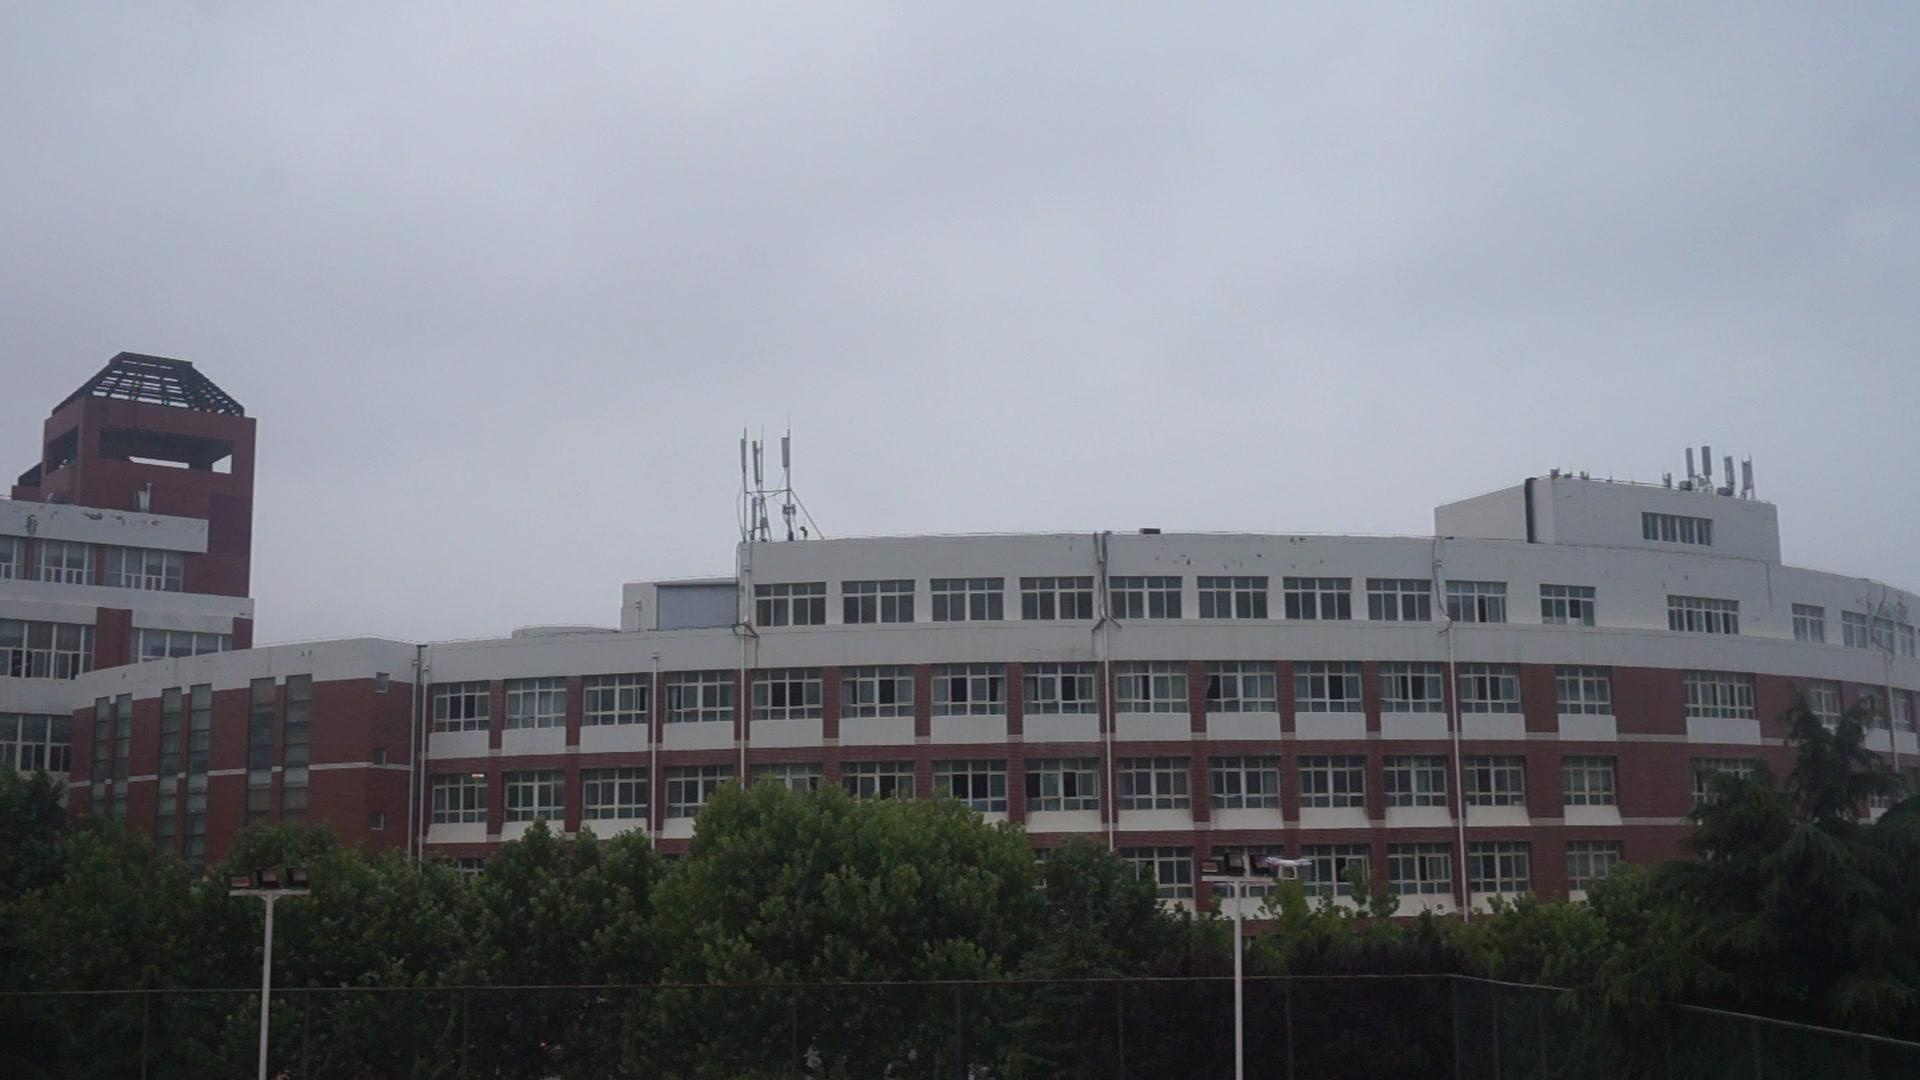UAV: (1265, 858, 1313, 881)
